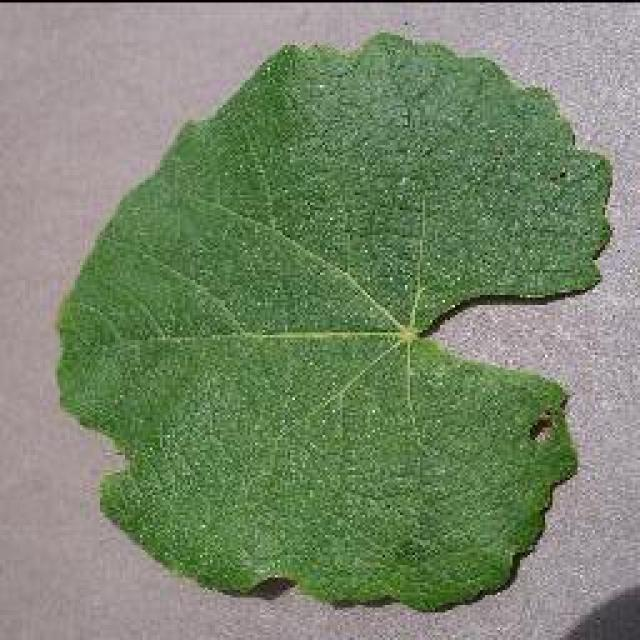Grape___healthy: (50, 30, 617, 615)
